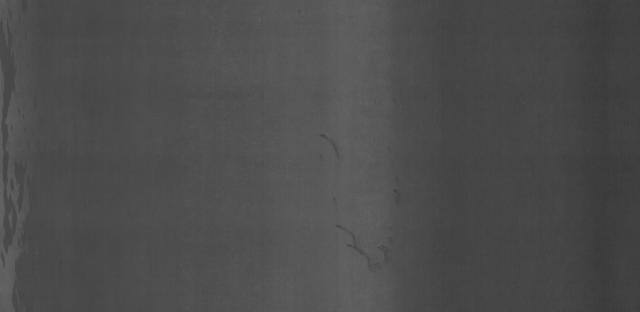water_spot: (335, 217, 415, 282)
